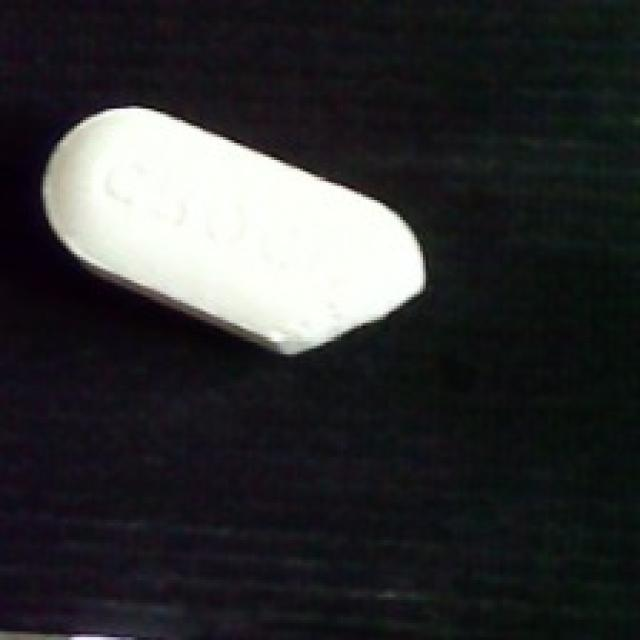defected: (31, 103, 432, 363)
